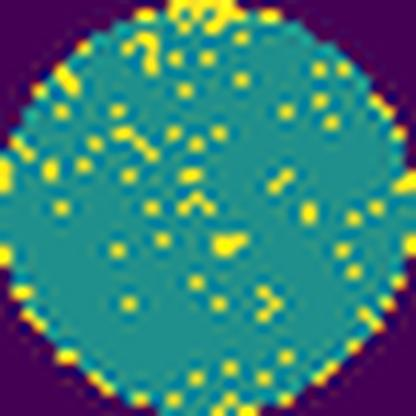Edge-Loc: (162, 0, 249, 36), (390, 166, 415, 194)
